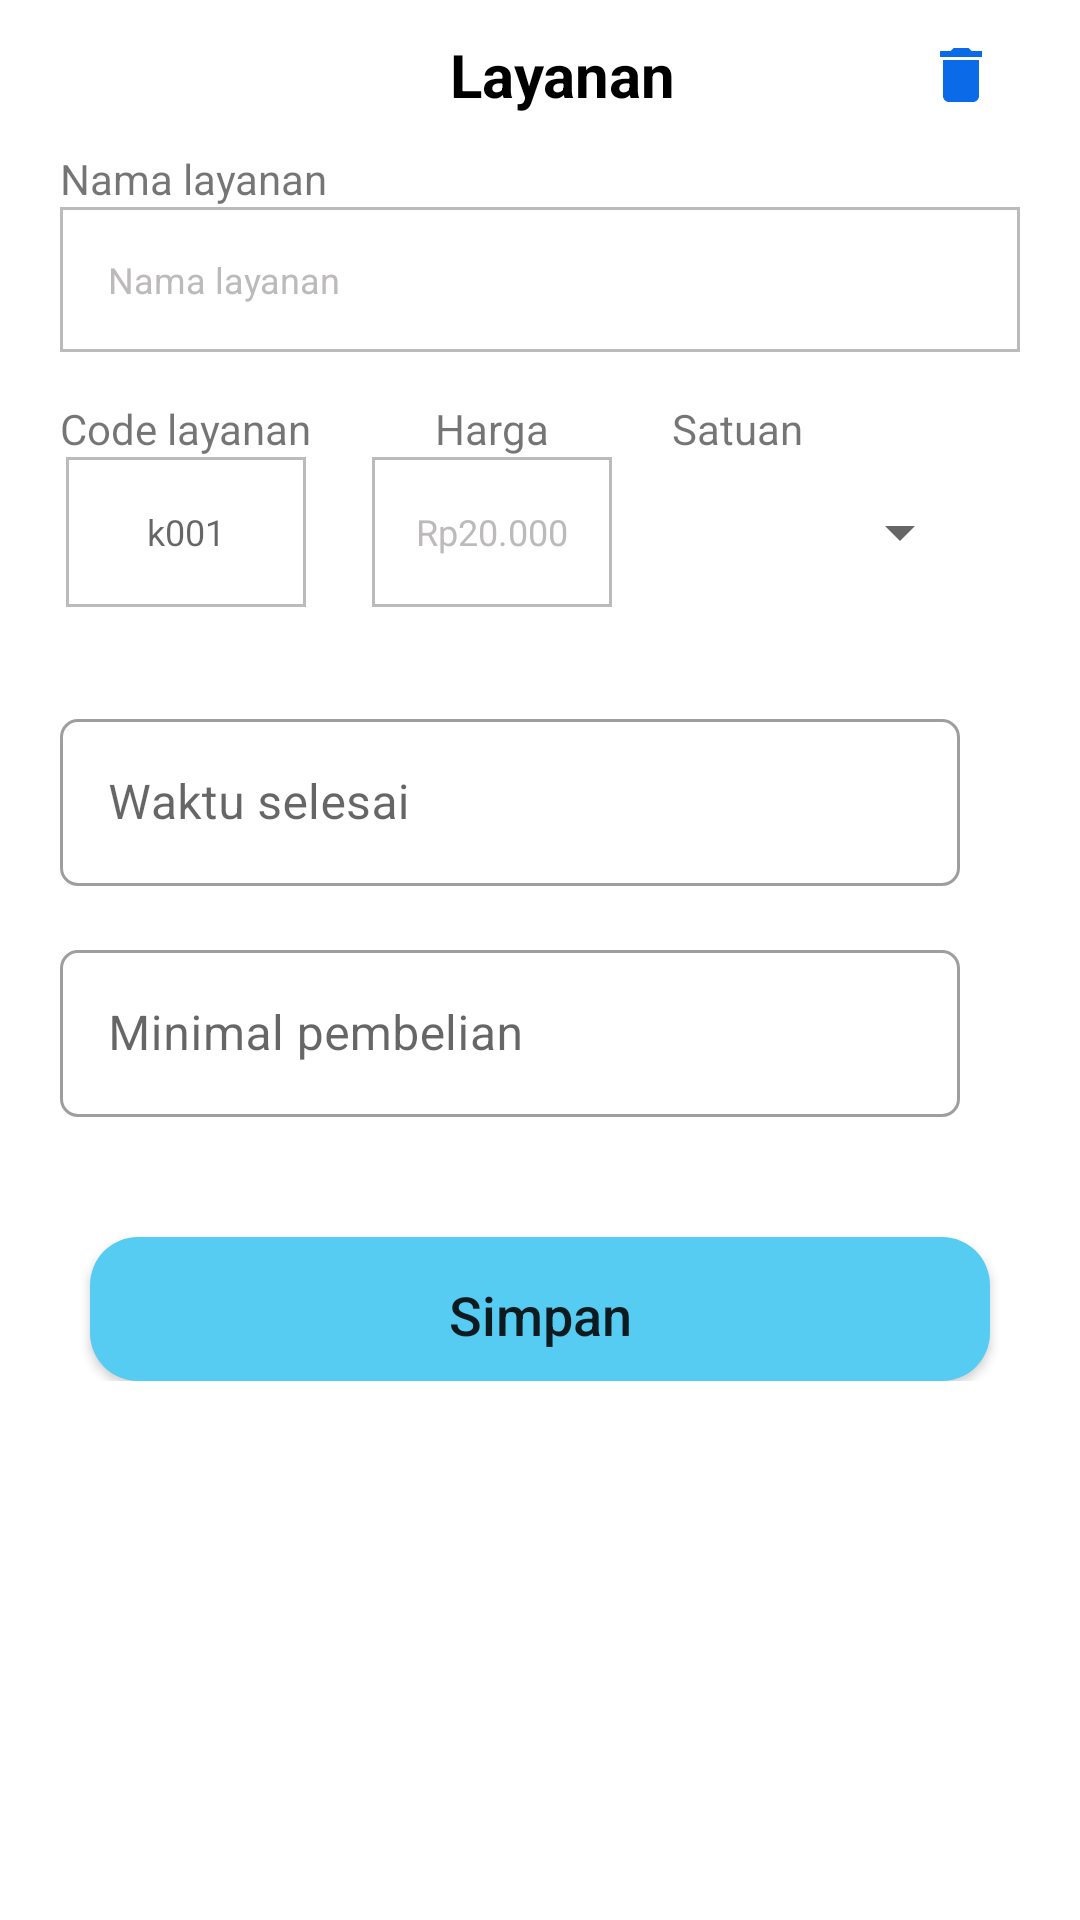

Named icons in this screenshot (1080×1920) and their centers, point (x, y):
delete: point (961, 75)
